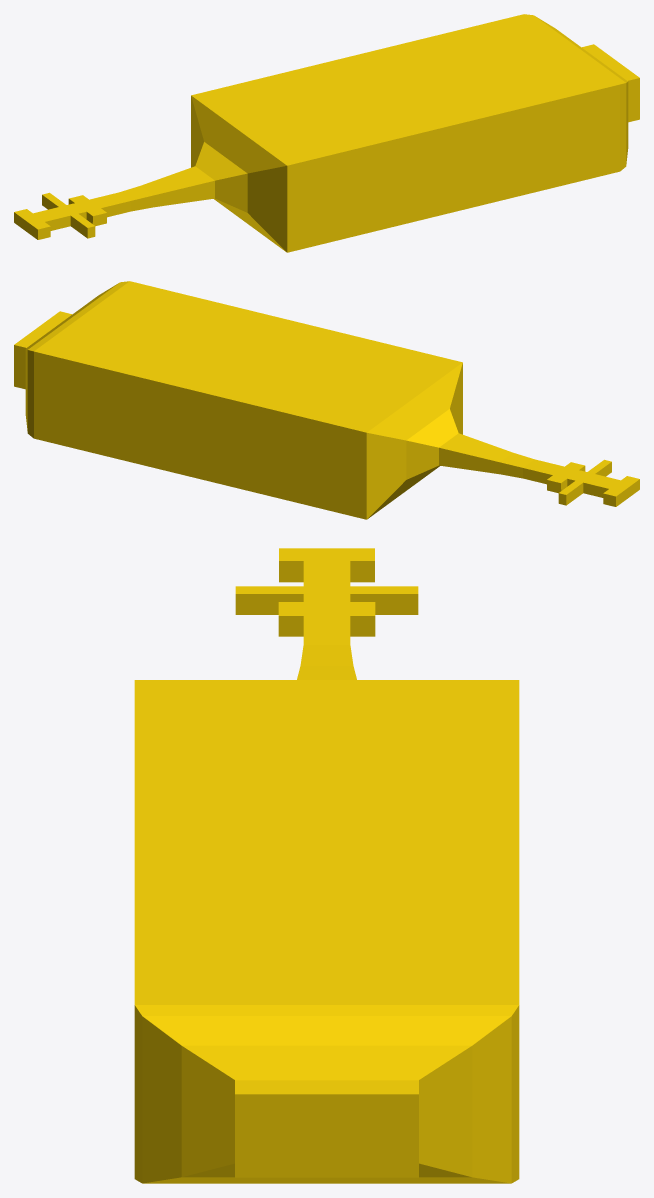
File: Llave.fbx
The picture shows the model from 3 angles, top to bottom: view 1: azimuth 30°, elevation 25°; view 2: azimuth 150°, elevation 25°; view 3: azimuth 270°, elevation 25°; orthographic projection. The views are drawn at different scales.
Parts seen in each view (by area): view 1: Cube; view 2: Cube; view 3: Cube.
Part boxes in pixels (x1=…): Cube: x1=14, y1=14, x2=639, y2=252; Cube: x1=14, y1=281, x2=639, y2=519; Cube: x1=134, y1=548, x2=519, y2=1183.
Size of the model in its own units: 355 by 50 by 100.
1 material, 1 textured.
